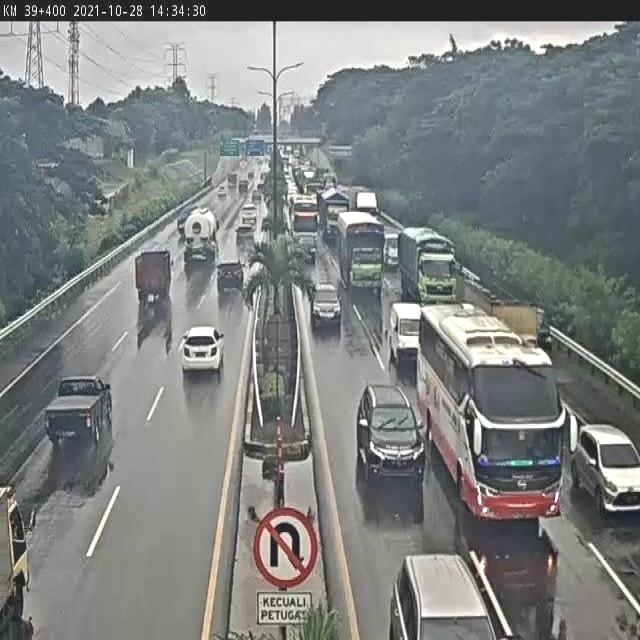Bus: (414, 302, 579, 528), (336, 208, 385, 297), (288, 193, 320, 240)
Car: (388, 552, 504, 639), (355, 382, 424, 484), (569, 424, 640, 517), (180, 324, 226, 375), (310, 286, 341, 332), (217, 260, 246, 295), (295, 232, 317, 263), (236, 222, 255, 246), (240, 203, 258, 225), (252, 188, 262, 204), (218, 184, 228, 199), (248, 170, 254, 180)
Truck: (44, 374, 113, 449), (398, 223, 461, 304), (182, 206, 221, 264), (135, 248, 172, 301), (316, 187, 350, 243), (350, 184, 380, 217), (238, 178, 248, 194), (228, 172, 237, 188)
Van: (389, 302, 421, 365), (384, 233, 400, 272)
